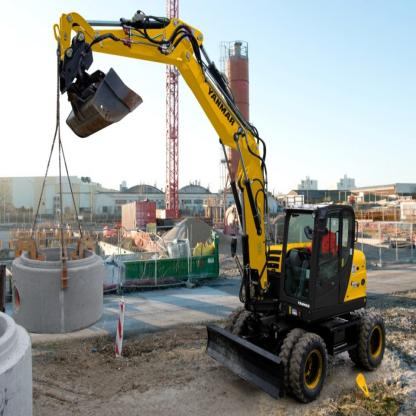excavator: (44, 2, 387, 386)
